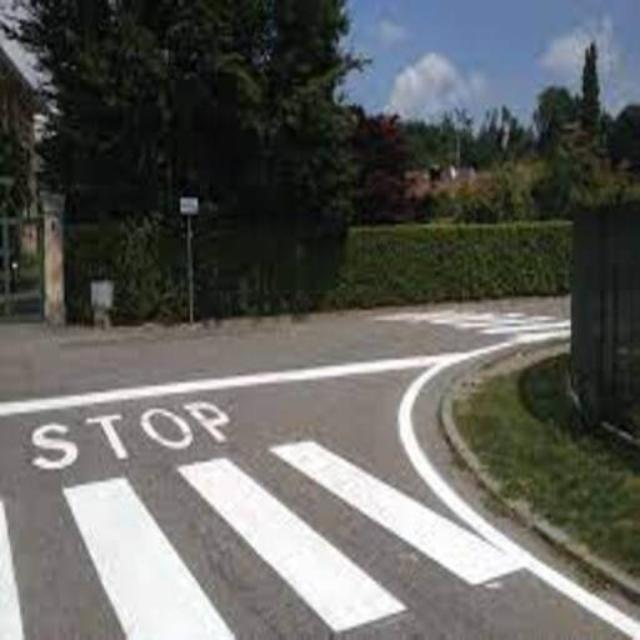sidewalk: (1, 439, 526, 640)
